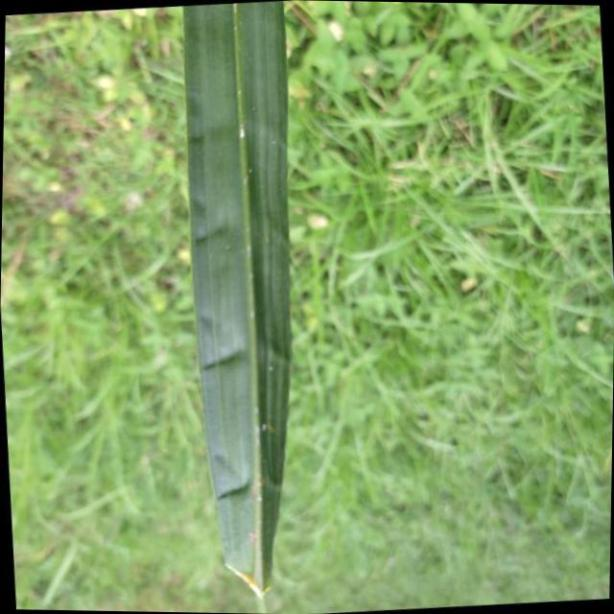Boron: (179, 0, 290, 603)
